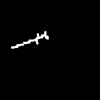double_crochet: (11, 31, 47, 47)
